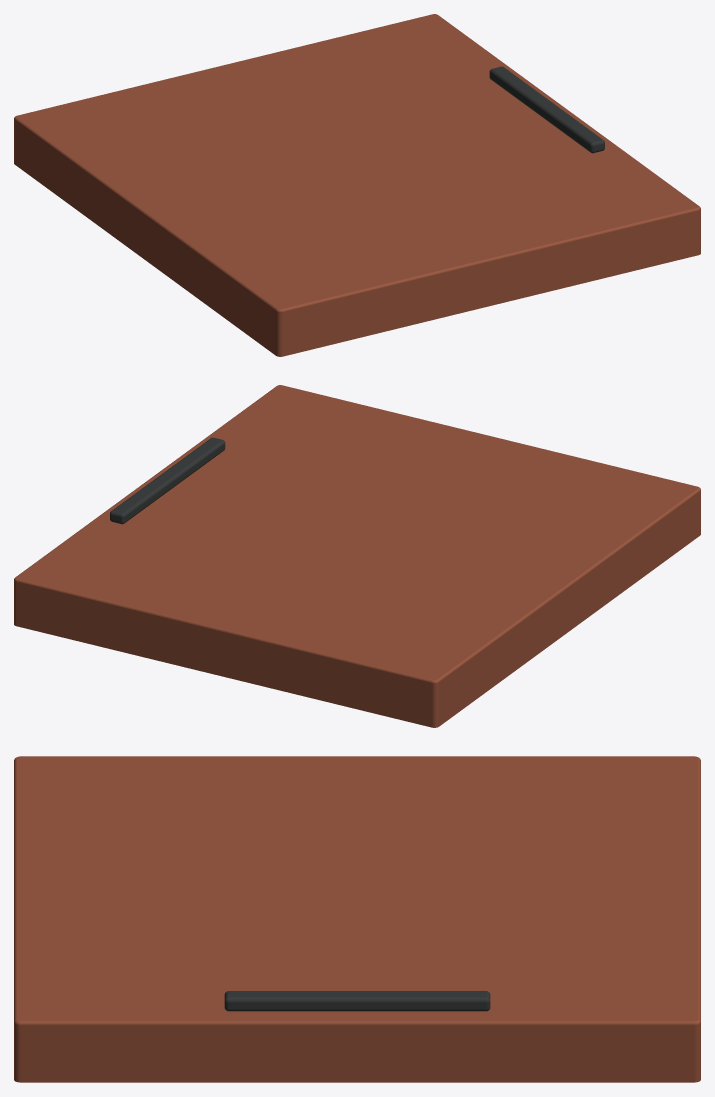
The model's file is uvc_tote_chamber_lid.glb.
3 renders of one model, top to bottom at view 1: azimuth 30°, elevation 25°; view 2: azimuth 150°, elevation 25°; view 3: azimuth 270°, elevation 25°, orthographic. The views are drawn at different scales.
Parts seen in each view (by area): view 1: uvc_tote_chamber_lid_accent, uvc_tote_chamber_lid_graphite; view 2: uvc_tote_chamber_lid_accent, uvc_tote_chamber_lid_graphite; view 3: uvc_tote_chamber_lid_accent, uvc_tote_chamber_lid_graphite.
Part boxes in pixels (<box>): uvc_tote_chamber_lid_accent: <box>14,14,700,356</box>; uvc_tote_chamber_lid_graphite: <box>489,66,604,153</box>; uvc_tote_chamber_lid_accent: <box>14,385,700,727</box>; uvc_tote_chamber_lid_graphite: <box>110,437,225,524</box>; uvc_tote_chamber_lid_accent: <box>14,756,700,1082</box>; uvc_tote_chamber_lid_graphite: <box>224,991,490,1011</box>.
Size of the model in its own units: 0.57 by 0.074 by 0.62.
